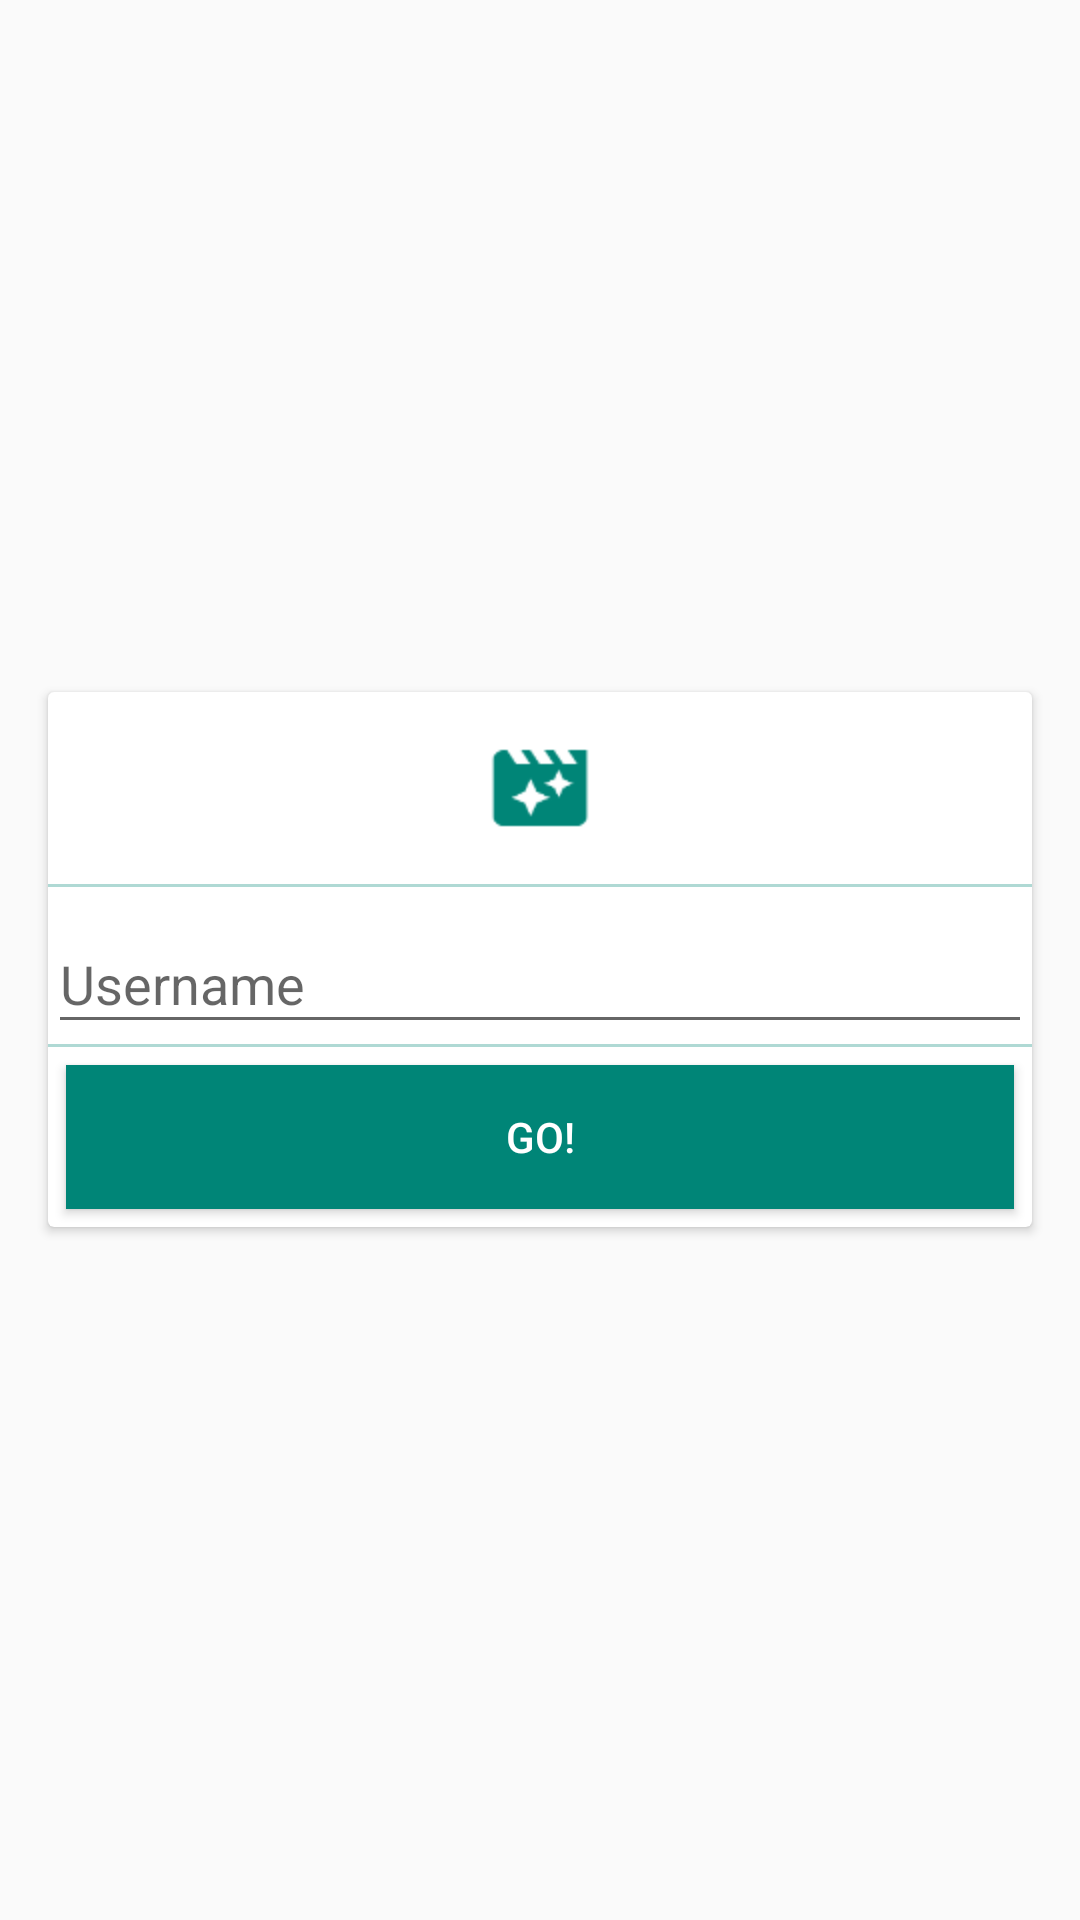

Icons on this 1080*1920 Android screen, each with its box as (x1, y1, x2, y2):
movie filter: (492, 749, 589, 827)
